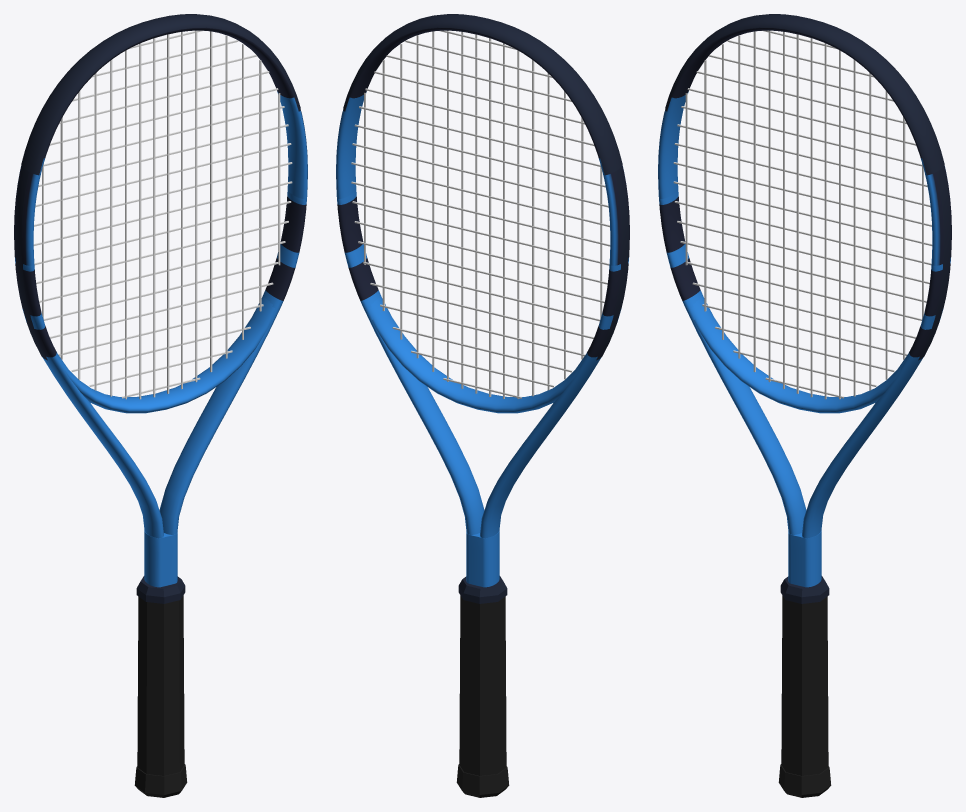
Rendered from babolat-pure-drive-100-2020.glb.
The picture shows the model from 3 angles, left to right: view 1: azimuth 30°, elevation 25°; view 2: azimuth 150°, elevation 25°; view 3: azimuth 330°, elevation 25°; orthographic projection.
Visible parts, largest first — view 1: frame, strings_mains, strings_crosses, grip, bumper, grommets, butt_cap, collar; view 2: frame, strings_mains, strings_crosses, grip, bumper, grommets, butt_cap, collar; view 3: frame, strings_mains, strings_crosses, grip, bumper, grommets, butt_cap, collar.
Boxes of the visible parts, box(x1,y1,x2,y2) form: frame: box(14, 27, 307, 587); strings_mains: box(42, 30, 280, 399); strings_crosses: box(33, 30, 292, 398); grip: box(137, 595, 184, 775); bumper: box(21, 14, 300, 175); grommets: box(15, 167, 47, 360); butt_cap: box(134, 764, 187, 797); collar: box(136, 576, 185, 603); frame: box(336, 27, 629, 587); strings_mains: box(364, 30, 602, 398); strings_crosses: box(351, 30, 610, 398); grip: box(459, 595, 506, 775); bumper: box(343, 14, 622, 175); grommets: box(596, 167, 628, 360); butt_cap: box(456, 764, 509, 797); collar: box(458, 576, 507, 603); frame: box(658, 27, 951, 587); strings_mains: box(685, 30, 923, 399); strings_crosses: box(673, 30, 932, 398); grip: box(781, 595, 828, 775); bumper: box(665, 14, 944, 175); grommets: box(918, 167, 950, 360); butt_cap: box(778, 764, 831, 797); collar: box(780, 576, 829, 603).
Bounding box in the file's own units: 0.2678 × 0.6861 × 0.0396.
